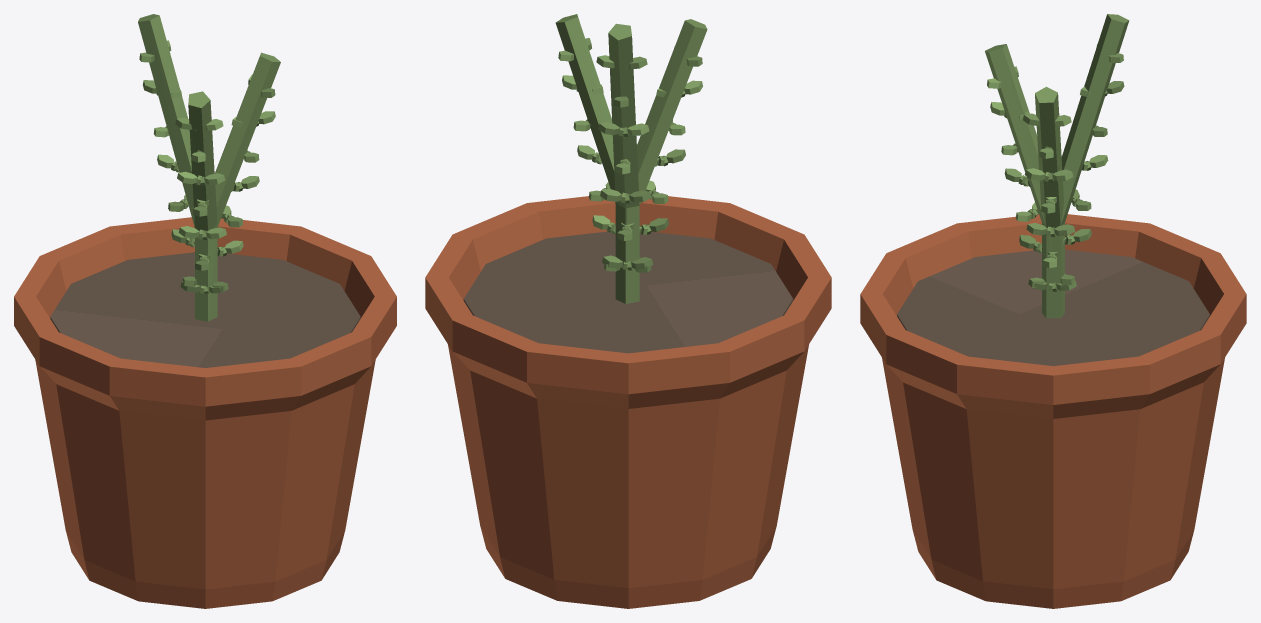
The model's file is new-muscosa.glb.
The picture shows the model from 3 angles, left to right: view 1: azimuth 30°, elevation 25°; view 2: azimuth 150°, elevation 25°; view 3: azimuth 270°, elevation 25°; orthographic projection. The views are drawn at different scales.
Visible parts, largest first — view 1: new-muscosa/review-terra-vessel, new-muscosa/review-rooted-soil, new-muscosa/stem-030, new-muscosa/stem-001, new-muscosa/stem-059; view 2: new-muscosa/review-terra-vessel, new-muscosa/review-rooted-soil, new-muscosa/stem-059, new-muscosa/stem-001, new-muscosa/stem-030; view 3: new-muscosa/review-terra-vessel, new-muscosa/review-rooted-soil, new-muscosa/stem-030, new-muscosa/stem-059, new-muscosa/stem-001.
Part boxes in pixels (box(x1,y1,x2,y2)): new-muscosa/review-terra-vessel: box(14, 217, 396, 608); new-muscosa/review-rooted-soil: box(50, 252, 360, 367); new-muscosa/stem-030: box(138, 14, 207, 319); new-muscosa/stem-001: box(195, 52, 280, 321); new-muscosa/stem-059: box(188, 91, 217, 321); new-muscosa/review-terra-vessel: box(425, 196, 831, 608); new-muscosa/review-rooted-soil: box(463, 231, 793, 353); new-muscosa/stem-059: box(625, 19, 707, 303); new-muscosa/stem-001: box(555, 14, 625, 303); new-muscosa/stem-030: box(608, 23, 639, 297); new-muscosa/review-terra-vessel: box(860, 214, 1246, 608); new-muscosa/review-rooted-soil: box(897, 249, 1209, 365); new-muscosa/stem-030: box(1052, 14, 1129, 316); new-muscosa/stem-059: box(985, 44, 1060, 318); new-muscosa/stem-001: box(1035, 86, 1064, 317).
Size of the model in its own units: 0.19 by 0.2847 by 0.19.
Materials: 3 (3 with a texture image).
